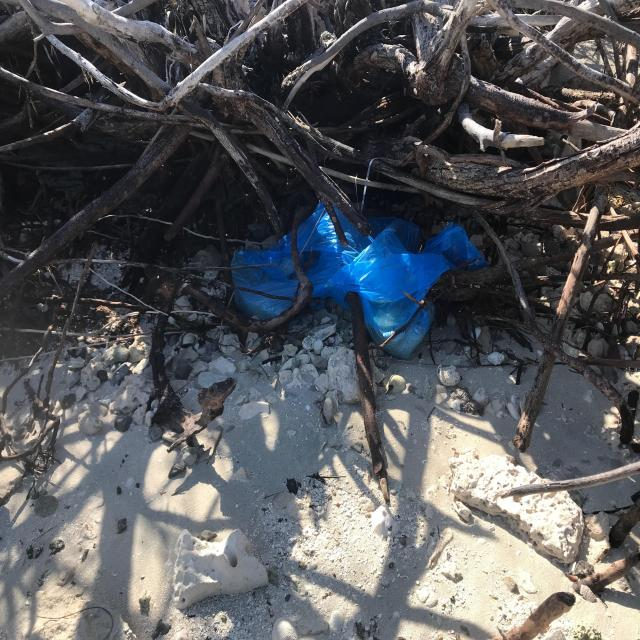litter: (231, 200, 489, 358)
